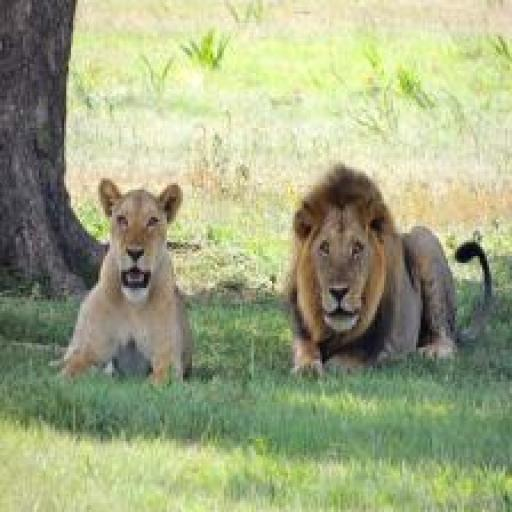lion: (274, 160, 490, 379), (59, 174, 200, 414)
